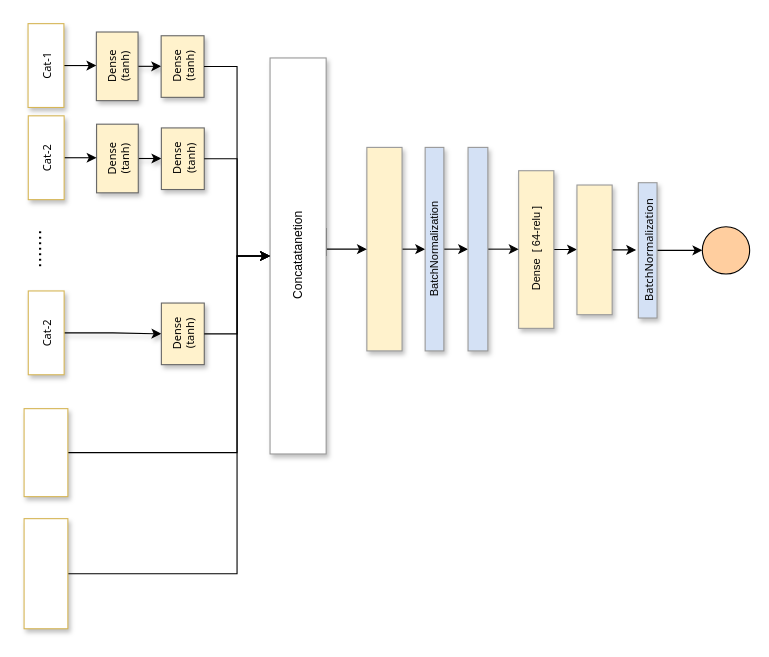
This 769x657 diagram has some shape labels left out. The centre of each missing label's shape, as x and y in pixels:
[1-sigmoid]: (725,250)
Binary: (46,574)
Continous: (46,453)
Dense [ 32-relu ]: (595,251)
Dense- [ 100-relu ]: (385,250)
Dropout (0.2): (478,250)
